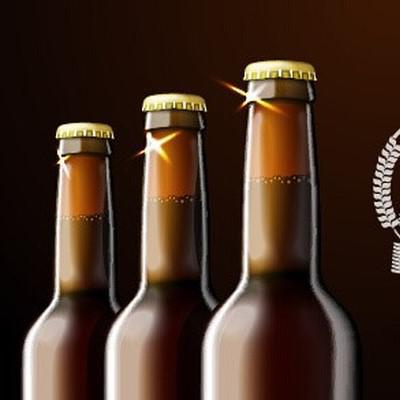beer: (24, 61, 363, 400)
